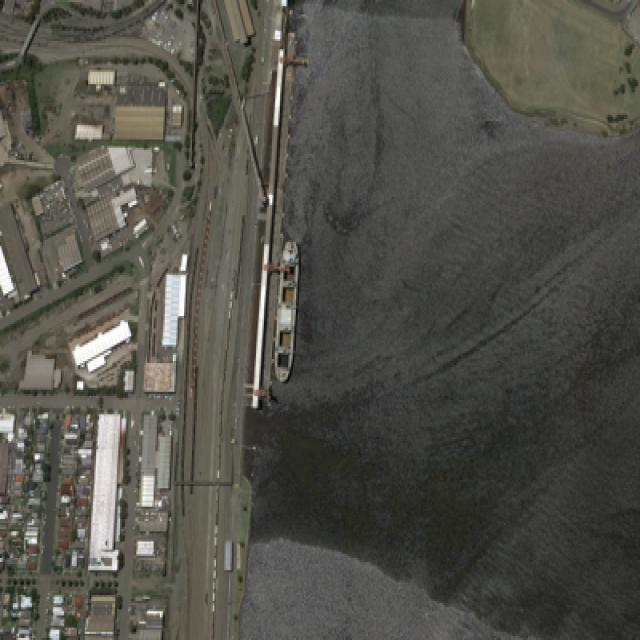boat: (272, 240, 301, 382)
